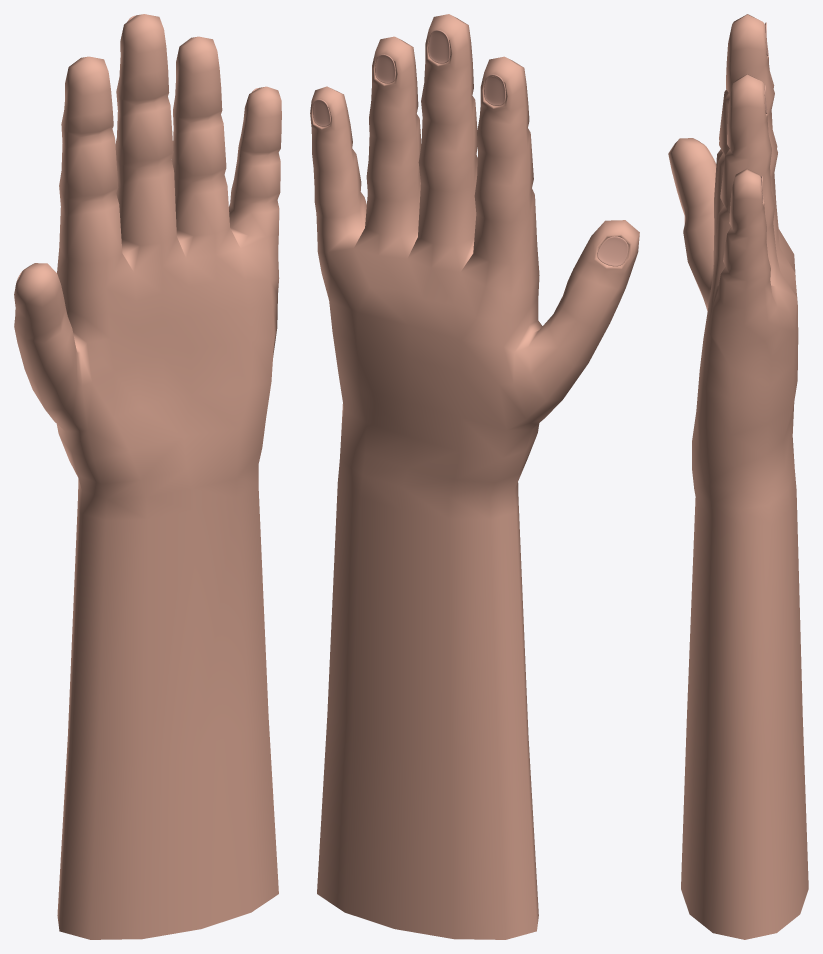
The model's file is uploads_files_3708815_Hand.fbx.
3 renders of one model, left to right at view 1: azimuth 30°, elevation 25°; view 2: azimuth 150°, elevation 25°; view 3: azimuth 270°, elevation 25°, orthographic. The views are drawn at different scales.
Parts seen in each view (by area): view 1: hand; view 2: hand, fingernail; view 3: hand.
Part boxes in pixels (<box>): hand: <box>14,14,281,939</box>; hand: <box>310,14,639,939</box>; fingernail: <box>313,30,628,266</box>; hand: <box>668,14,808,939</box>.
Size of the model in its own units: 45.29 by 133 by 19.58.
